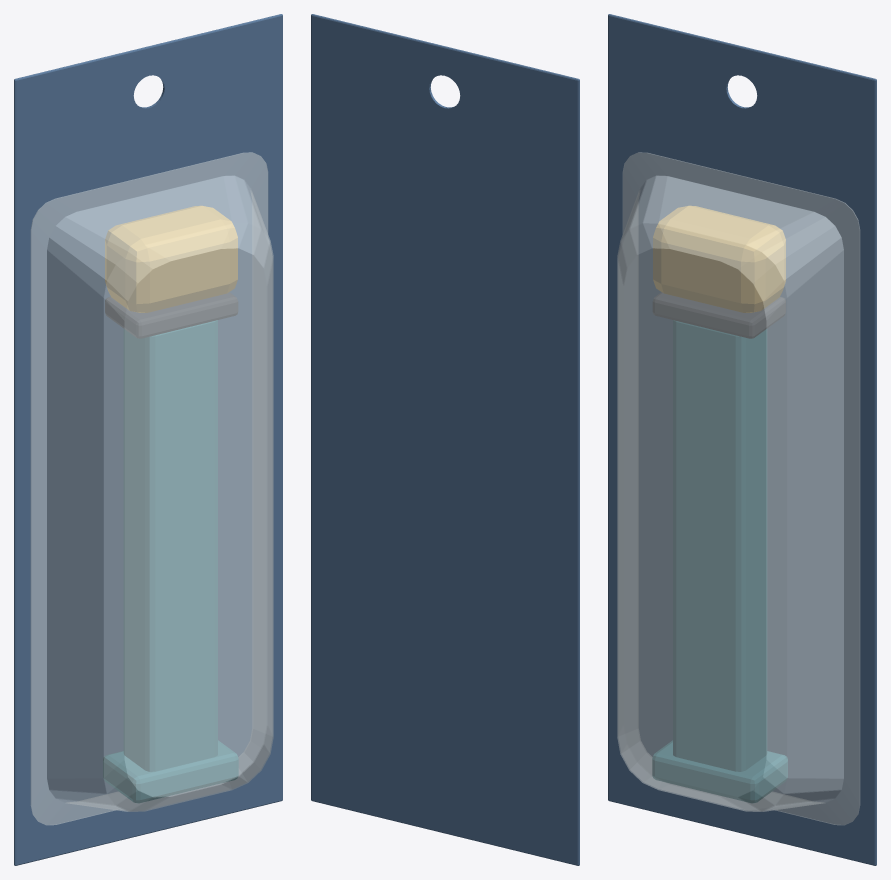
The model's file is candy-dispenser-pack.glb.
3 views of the same model, side by side, from view 1: azimuth 30°, elevation 25°; view 2: azimuth 150°, elevation 25°; view 3: azimuth 330°, elevation 25° (orthographic).
Parts seen in each view (by area): view 1: ClearBlister, PackCard, DispenserStem, DispenserCap, HingeDetail; view 2: PackCard; view 3: ClearBlister, PackCard, DispenserStem, DispenserCap, HingeDetail.
Boxes of the visible parts, x1=… form: ClearBlister: x1=30, y1=152, x2=273, y2=825; PackCard: x1=14, y1=14, x2=282, y2=865; DispenserStem: x1=103, y1=320, x2=238, y2=802; DispenserCap: x1=105, y1=206, x2=237, y2=312; HingeDetail: x1=105, y1=292, x2=237, y2=338; PackCard: x1=311, y1=14, x2=579, y2=865; ClearBlister: x1=617, y1=152, x2=860, y2=825; PackCard: x1=608, y1=14, x2=876, y2=865; DispenserStem: x1=652, y1=320, x2=787, y2=802; DispenserCap: x1=653, y1=206, x2=785, y2=312; HingeDetail: x1=653, y1=292, x2=785, y2=338.
Bounding box in the file's own units: 0.2083 × 0.5833 × 0.065.
